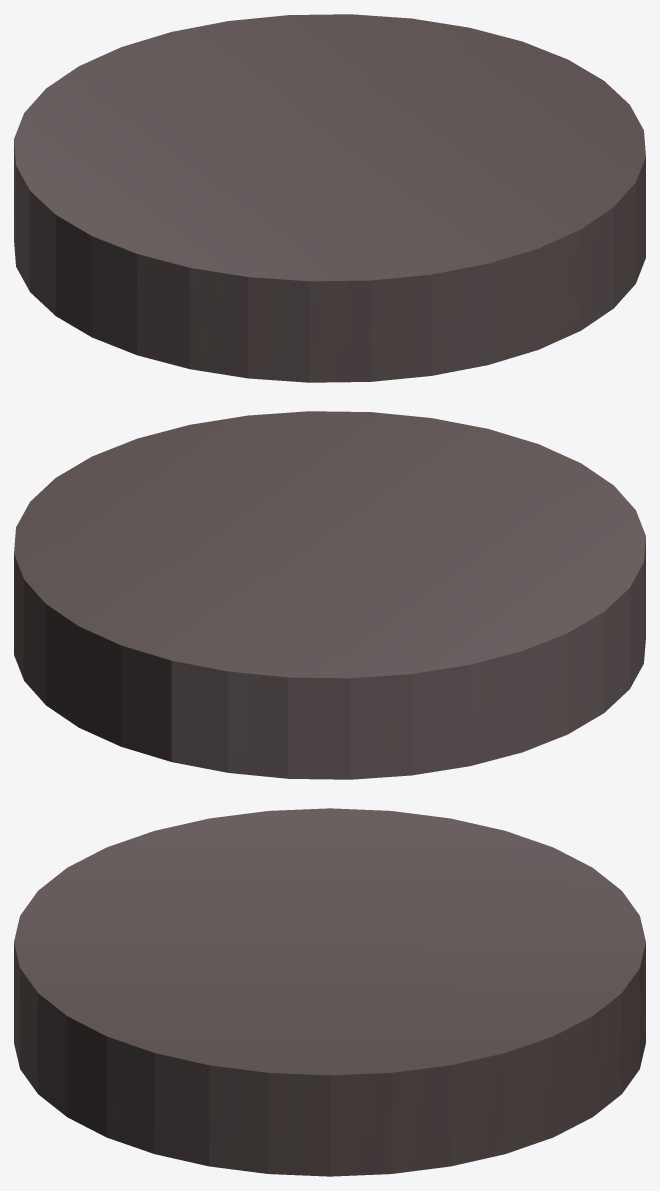
Rendered from CeilingLampCircle.fbx.
3 views of the same model, one above another, from view 1: azimuth 30°, elevation 25°; view 2: azimuth 150°, elevation 25°; view 3: azimuth 270°, elevation 25° (orthographic).
Parts seen in each view (by area): view 1: CeilingLightCircle.001, CeilingLightCircle; view 2: CeilingLightCircle.001, CeilingLightCircle; view 3: CeilingLightCircle.001, CeilingLightCircle.
Boxes of the visible parts, x1=… form: CeilingLightCircle.001: x1=39, y1=25, x2=620, y2=270; CeilingLightCircle: x1=14, y1=14, x2=645, y2=382; CeilingLightCircle.001: x1=39, y1=422, x2=620, y2=667; CeilingLightCircle: x1=14, y1=411, x2=645, y2=779; CeilingLightCircle.001: x1=39, y1=819, x2=620, y2=1064; CeilingLightCircle: x1=14, y1=808, x2=645, y2=1176.
Size of the model in its own units: 118 by 20.81 by 118.
